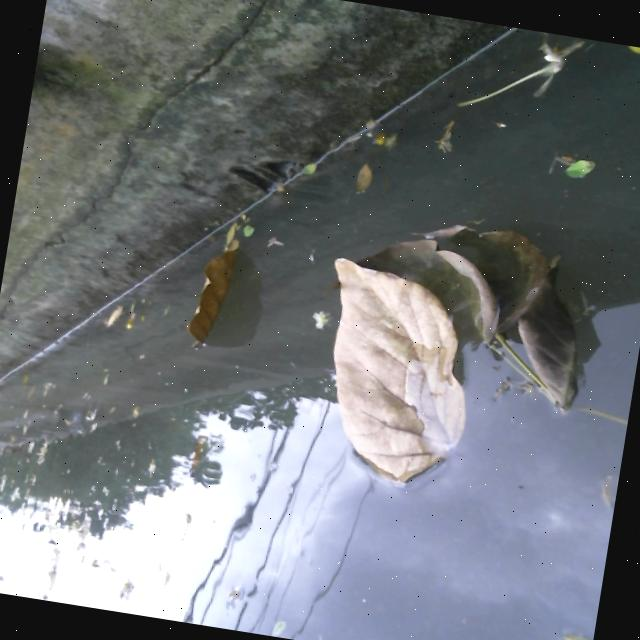Big-leaf: (278, 193, 614, 509), (163, 233, 258, 365)
Small-leaf: (551, 150, 597, 192), (212, 215, 253, 258), (420, 114, 459, 159), (187, 432, 215, 477), (349, 161, 386, 190), (102, 299, 134, 332), (377, 123, 408, 150), (265, 616, 299, 640), (128, 306, 148, 341), (301, 155, 327, 177), (557, 626, 595, 640), (619, 44, 640, 54)
